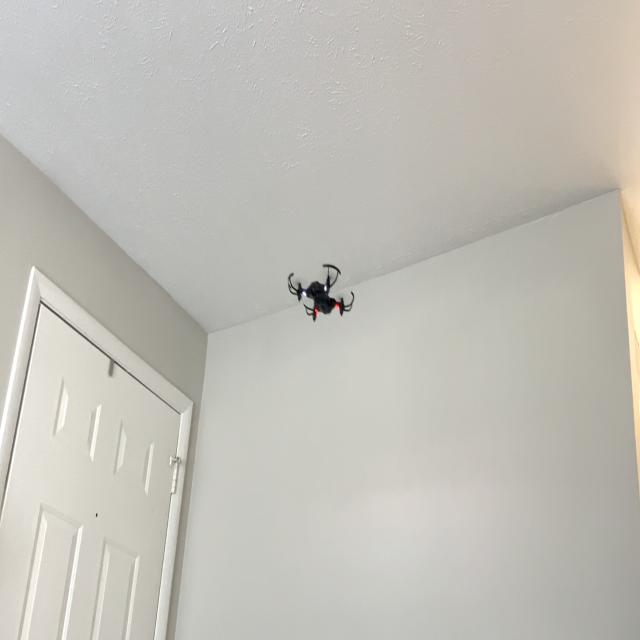drone: (279, 236, 359, 332)
